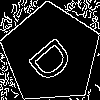D: (26, 29, 83, 86)
